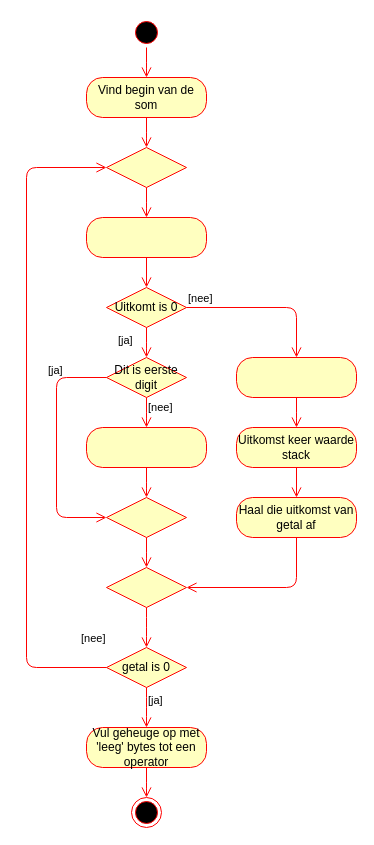
Image size: 374x845. Some labels were removed from this diagram. Here are the shapes that lost their labels. From the top down, the centre of each, then its label:
At point (146, 237): "Deel getal door waarde op stack".
At point (296, 377): "Uitkomst wordt opgeslagen".
At point (146, 447): "Uitkomst (0) wordt opgeslagen".
